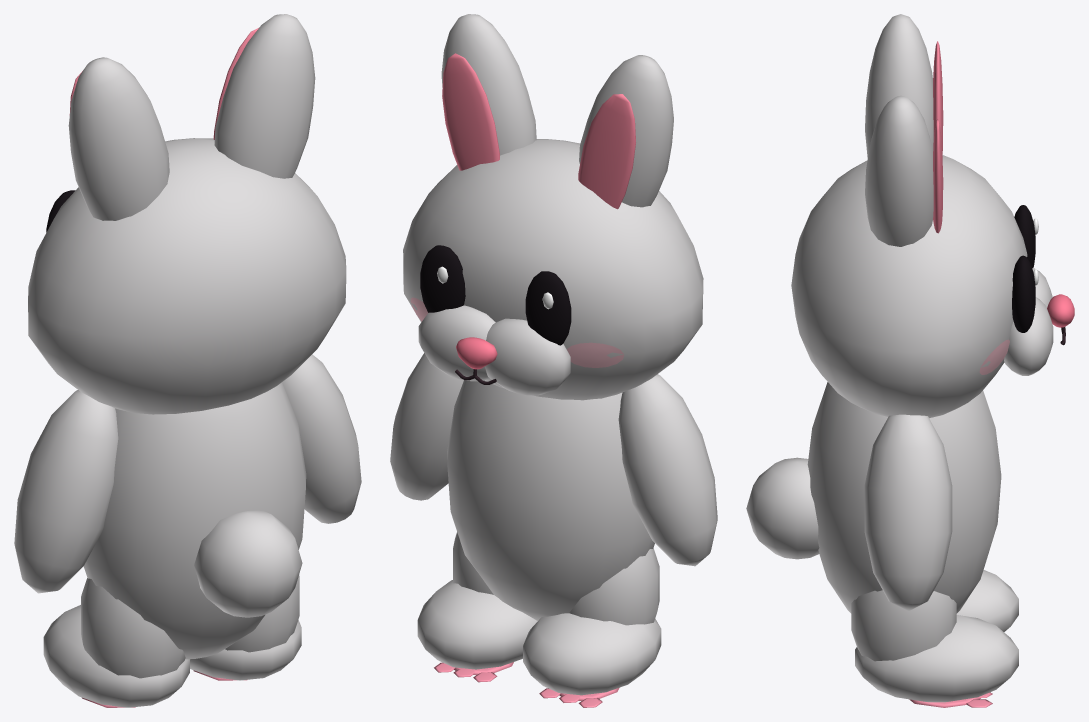
The model's file is FrostBunny.glb.
3 views of the same model, side by side, from view 1: azimuth 30°, elevation 25°; view 2: azimuth 150°, elevation 25°; view 3: azimuth 270°, elevation 25° (orthographic). The views are drawn at different scales.
Visible parts, largest first — view 1: Head, Body, LeftArm, LeftEar, RightEar, Tail, RightArm, LeftLeg, LeftFoot, RightFoot, RightLeg; view 2: Head, Body, LeftArm, LeftFoot, RightFoot, RightArm, LeftEar, RightEar, LeftMuzzle, LeftInnerEar, RightInnerEar, LeftLeg (+6 smaller); view 3: Head, Body, RightArm, RightEar, RightFoot, Tail, RightLeg, LeftEar, RightMuzzle, LeftFoot, RightEye, RightInnerEar (+3 smaller).
Part boxes in pixels (box(x1,y1,x2,y2)): Head: box(28, 138, 346, 414); Body: box(83, 382, 306, 659); LeftArm: box(14, 390, 118, 593); LeftEar: box(68, 57, 169, 220); RightEar: box(214, 14, 315, 178); Tail: box(194, 510, 302, 617); RightArm: box(282, 354, 361, 523); LeftLeg: box(81, 578, 185, 678); LeftFoot: box(43, 605, 189, 707); RightFoot: box(190, 620, 301, 680); RightLeg: box(225, 575, 299, 652); Head: box(403, 139, 703, 400); Body: box(447, 380, 654, 620); LeftArm: box(618, 374, 717, 566); LeftFoot: box(523, 613, 661, 695); RightFoot: box(417, 580, 537, 669); RightArm: box(390, 353, 463, 500); LeftEar: box(579, 55, 673, 207); RightEar: box(441, 14, 536, 155); LeftMuzzle: box(484, 318, 570, 395); LeftInnerEar: box(578, 94, 635, 209); RightInnerEar: box(442, 53, 499, 170); LeftLeg: box(569, 548, 659, 625); Head: box(791, 155, 1027, 418); Body: box(807, 382, 1001, 613); RightArm: box(864, 414, 952, 611); RightEar: box(865, 95, 933, 246); RightFoot: box(855, 615, 1018, 702); Tail: box(746, 457, 819, 559); RightLeg: box(851, 590, 956, 661); LeftEar: box(865, 14, 933, 158); RightMuzzle: box(1004, 297, 1053, 375); LeftFoot: box(956, 570, 1018, 631); RightEye: box(1012, 255, 1035, 332); RightInnerEar: box(933, 119, 943, 233).
Size of the model in its own units: 2.4 by 4.5 by 2.19.
